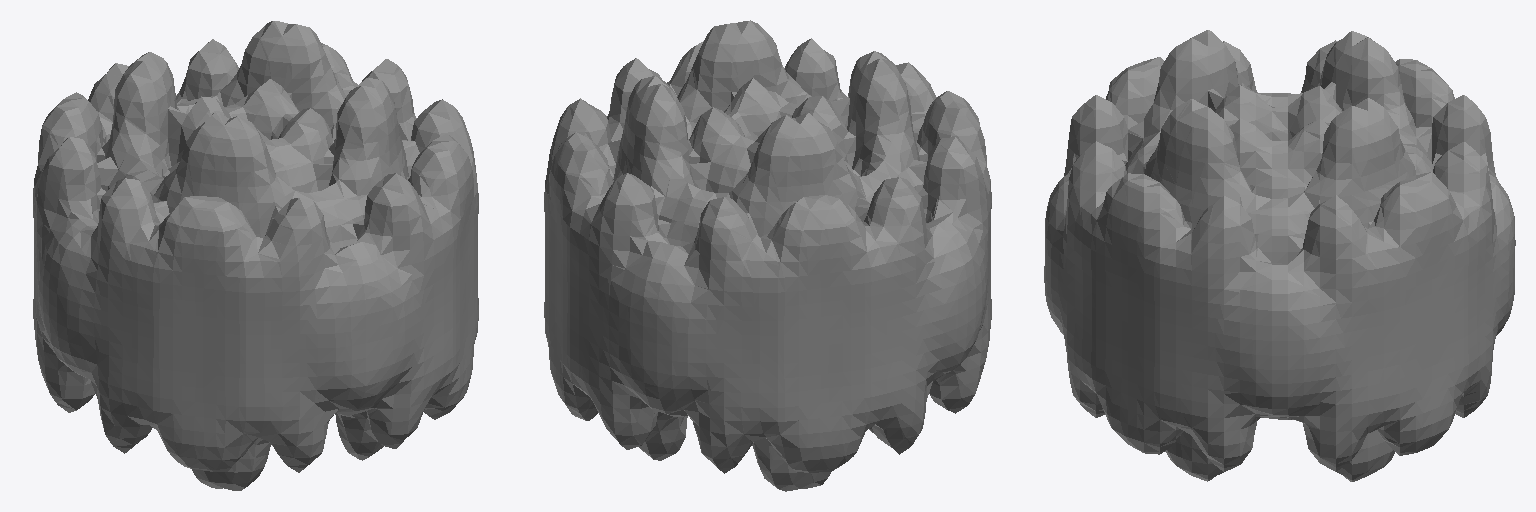
robot.urdf — cube.urdf:
<?xml version="0.0" ?> 
<robot name="cube.urdf"> 
<link name="legobrick"> 
<contact> 
<lateral_friction value="5.0"/> 
<rolling_friction value="0.0"/> 
<contact_cfm value="0.0"/> 
<contact_erp value="1.0"/> 
</contact> 
<inertial> 
<origin rpy="0 0 0" xyz="0.0 0.0 0.0"/> 
<mass value=".01"/> 
<inertia ixx="1" ixy="0" ixz="0" iyy="1" iyz="0" izz="1"/> 
</inertial> 
<visual> 
<origin rpy="1.570796 0 0" xyz="-0.025797935139133154 0.025801756018417107 -0.025822522368807815"/> 
<geometry> 
<mesh filename="D21_1.obj" scale="0.0006205876758568177 0.0006205876758568177 0.0006205876758568177"/> 
</geometry> 
<material name="yellow"> 
<color rgba="0.6 0.6 0.6 1"/> 
</material> 
</visual> 
<collision> 
<origin rpy="1.570796 0 0" xyz="-0.025797935139133154 0.025801756018417107 -0.025822522368807815"/> 
<geometry> 
<mesh filename="D21_1.obj" scale="0.0006205876758568177 0.0006205876758568177 0.0006205876758568177"/> 
</geometry> 
</collision> 
</link> 
</robot>

--- Facts derived from the render (not from the file) ---
The picture shows the robot from 3 angles, left to right: view 1: azimuth 30°, elevation 25°; view 2: azimuth 150°, elevation 25°; view 3: azimuth 270°, elevation 25°; orthographic projection.
Robot: cube.urdf — 1 links, 0 joints (none); root link legobrick; default pose: all joints at 0.
Visible links, largest first — view 1: legobrick; view 2: legobrick; view 3: legobrick.
Boxes of the visible links, x1,y1,x2,y2 form: legobrick: (33,21,478,490); legobrick: (544,20,991,491); legobrick: (1044,30,1515,481).
Size in the robot's own frame: 0.056 by 0.056 by 0.0496 metres.
Meshes: 1 distinct files referenced, 1 mesh visuals loaded (1 OBJ).
